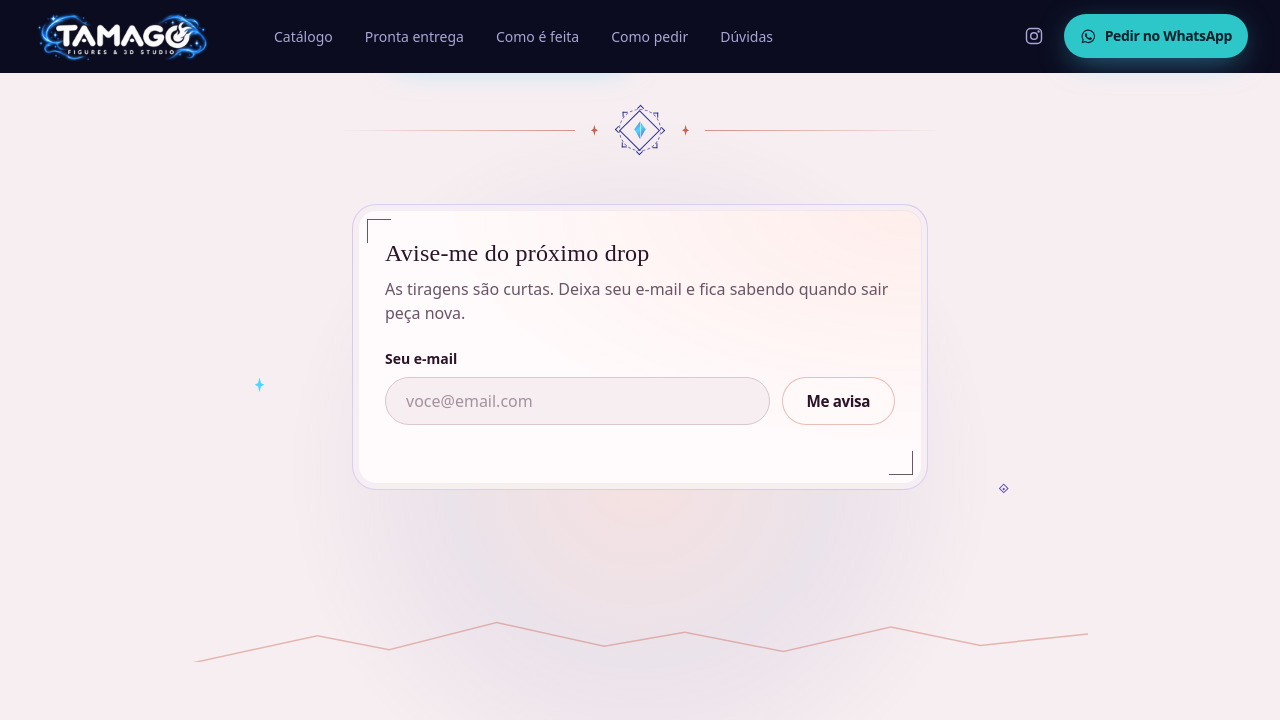
it: home › formulário de drop valida e-mail com Zod
The width and height of the screenshot is (1280, 720).
(page scrolled)
Type "fulano@" into the field labelled "Seu e-mail" at (577, 401), box top-left (385, 377), bottom-right (770, 425)
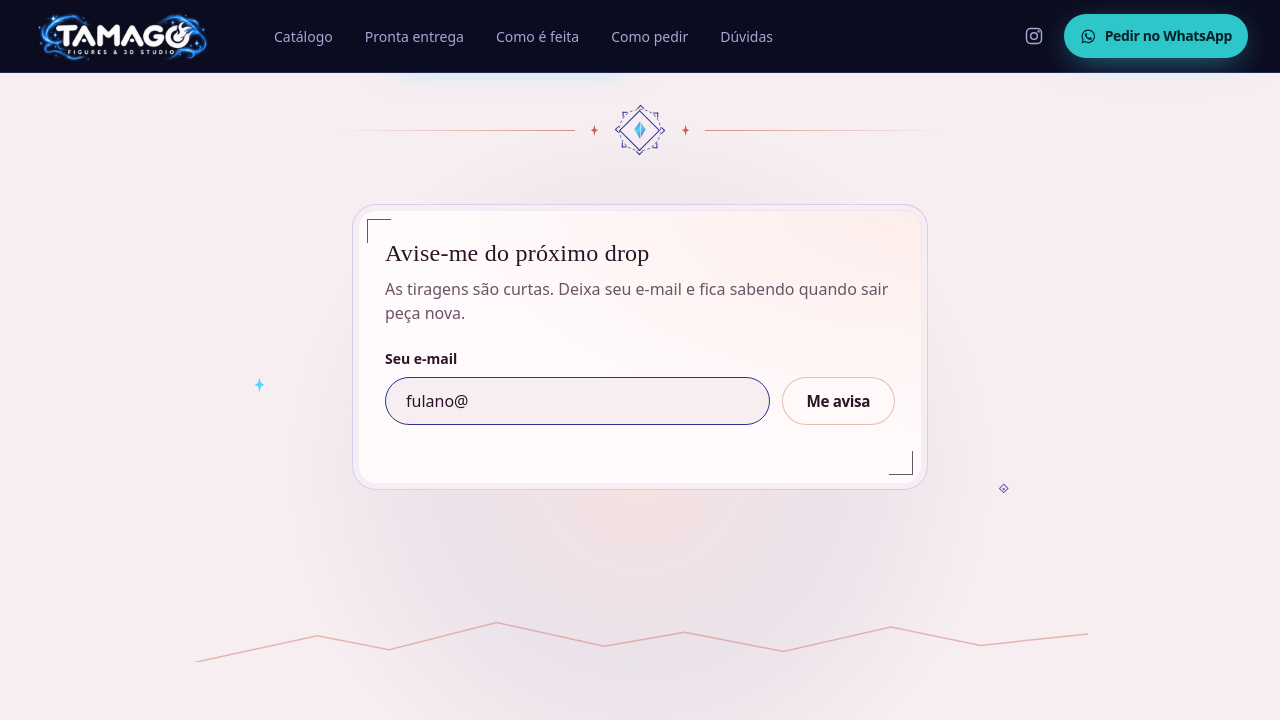
Click the button "Me avisa" at (838, 401), box top-left (782, 377), bottom-right (895, 425)
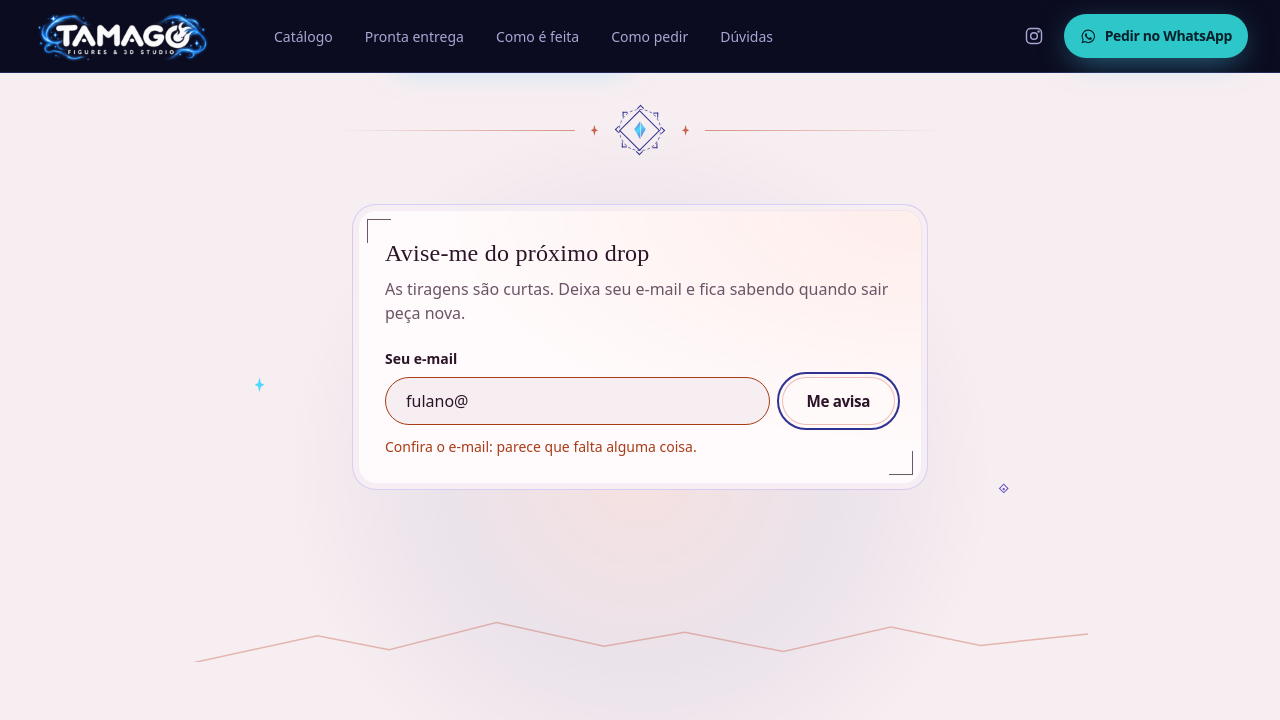
Now the text "Confira o e-mail: parece que falta alguma coisa." is shown, box top-left (385, 437), bottom-right (697, 456)
